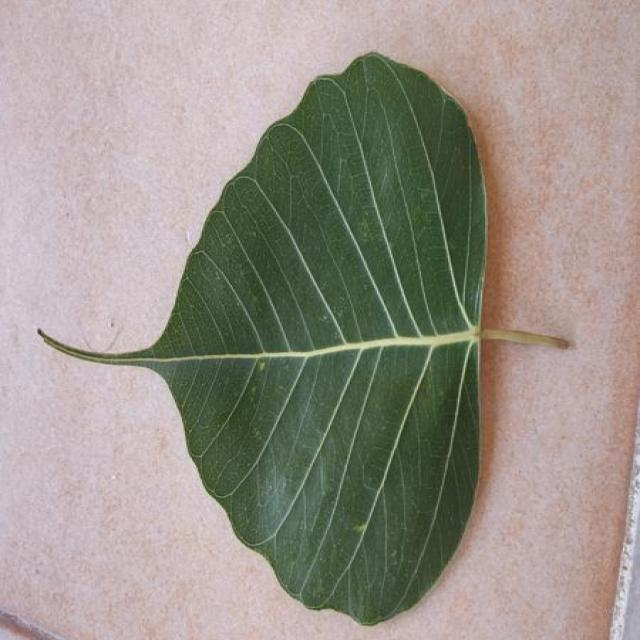arali: (42, 54, 485, 568)
